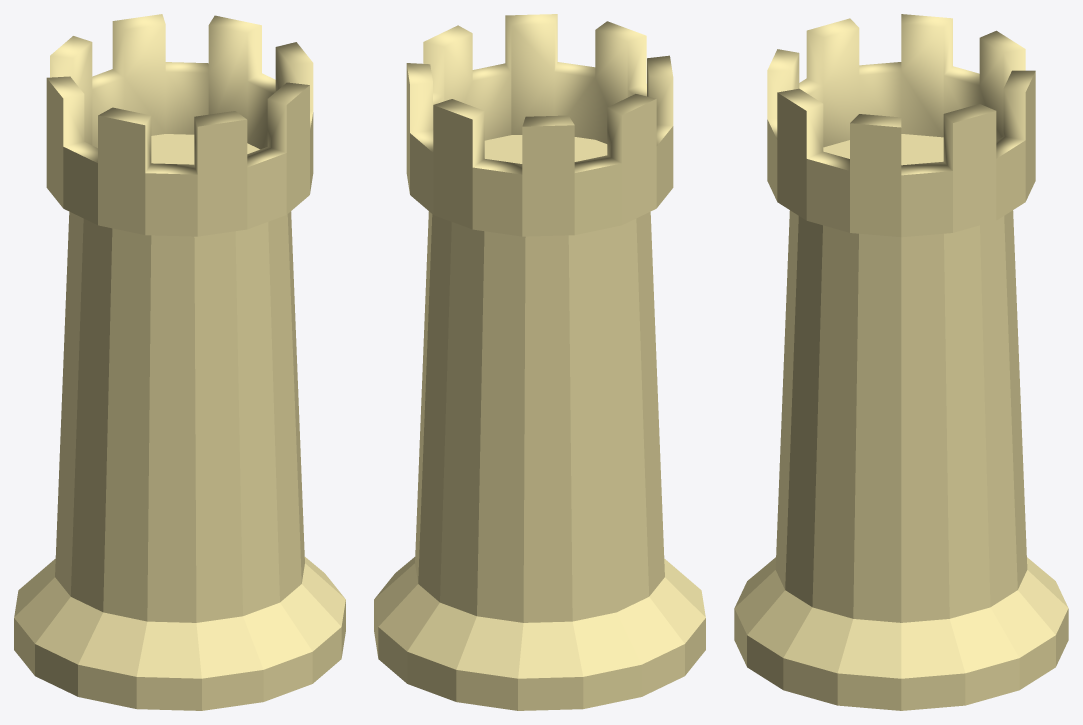
The model's file is Low Poly Chess - Rook.glb.
3 views of the same model, side by side, from view 1: azimuth 30°, elevation 25°; view 2: azimuth 150°, elevation 25°; view 3: azimuth 270°, elevation 25° (orthographic).
Visible parts, largest first — view 1: Cylinder; view 2: Cylinder; view 3: Cylinder.
Boxes of the visible parts, bbox=[...] form: Cylinder: bbox=[14, 14, 345, 710]; Cylinder: bbox=[374, 14, 705, 710]; Cylinder: bbox=[734, 14, 1068, 710].
Size of the model in its own units: 1.45 by 2.72 by 1.45.
Materials: 2 (2 with a texture image).
